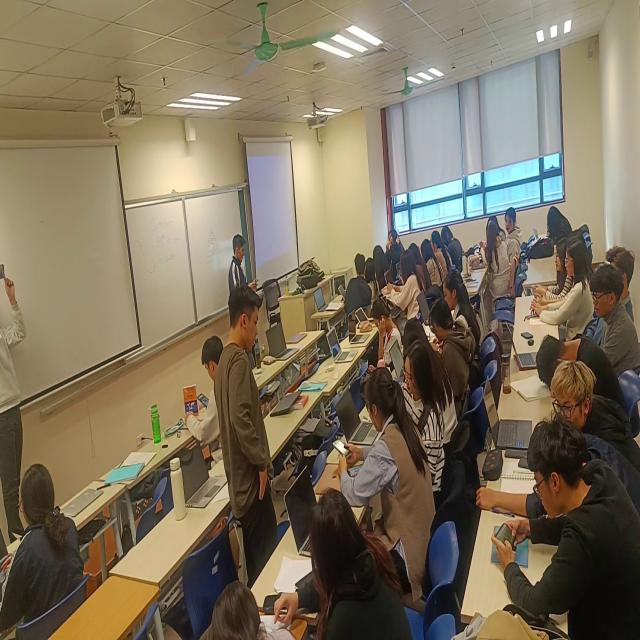raise_head: (270, 490, 430, 640)
sleep: (537, 330, 632, 434), (207, 571, 308, 640)
stand: (209, 281, 286, 580), (1, 261, 34, 558), (229, 225, 262, 357)
using_computer: (1, 459, 91, 640)
using_phone: (493, 410, 640, 640), (334, 367, 447, 606), (181, 334, 238, 471), (365, 294, 405, 388)
